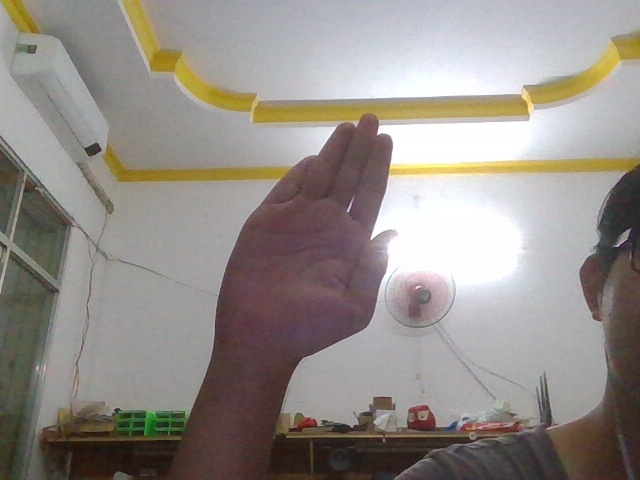stop: (183, 104, 414, 380)
